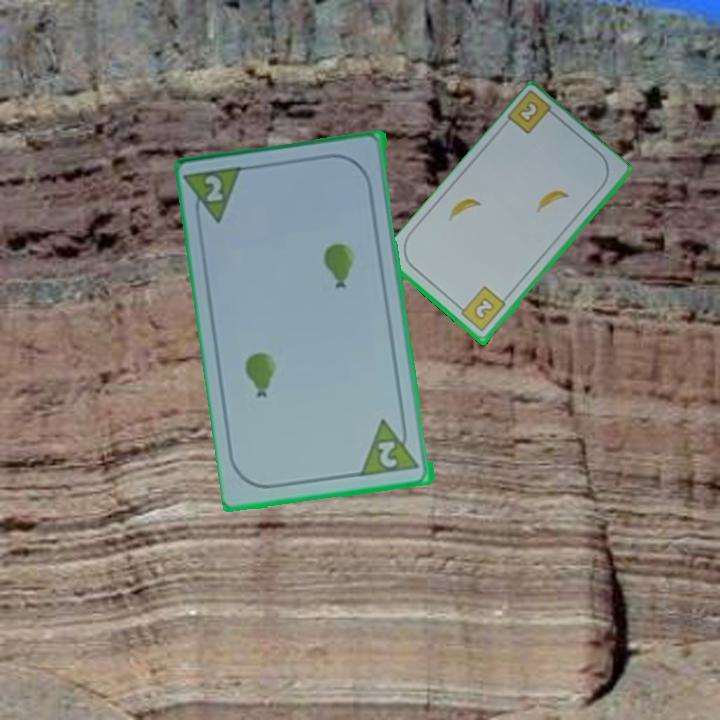2b: (454, 283, 509, 335), (504, 89, 562, 138)
2p: (201, 172, 227, 206), (375, 438, 401, 471)
